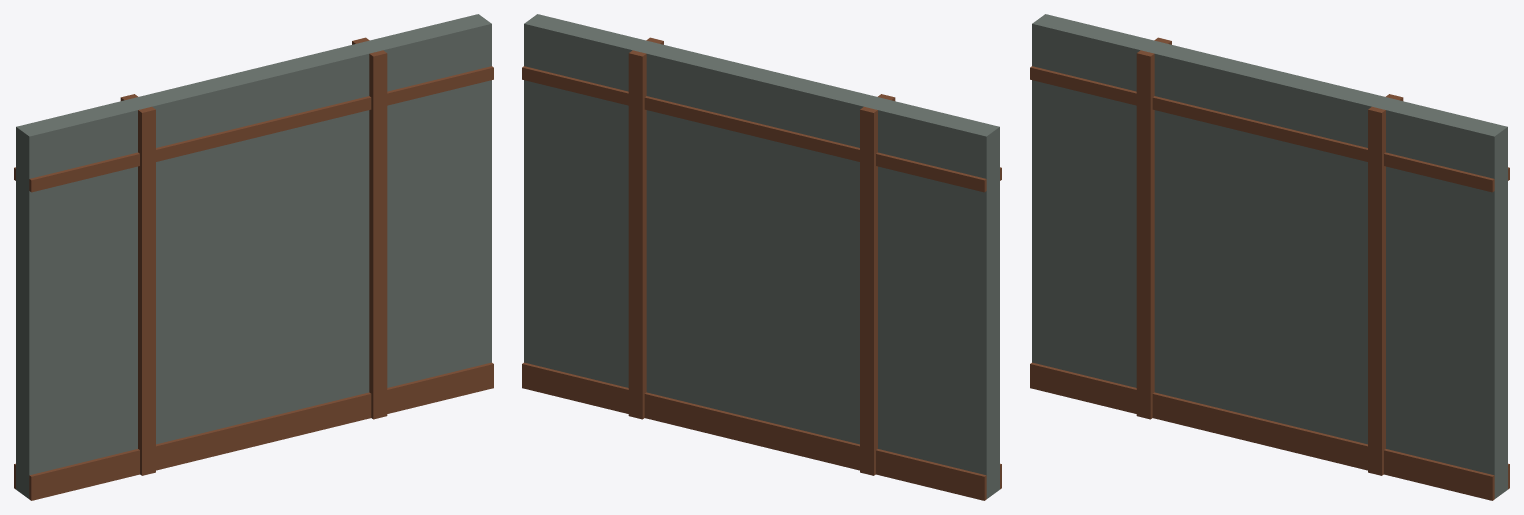
File: SM_Wall.fbx
3 views of the same model, side by side, from view 1: azimuth 30°, elevation 25°; view 2: azimuth 150°, elevation 25°; view 3: azimuth 330°, elevation 25° (orthographic).
Visible parts, largest first — view 1: SM_Wall; view 2: SM_Wall; view 3: SM_Wall.
Boxes of the visible parts, x1,y1,x2,y2 form: SM_Wall: [14, 14, 493, 500]; SM_Wall: [522, 14, 1001, 500]; SM_Wall: [1030, 14, 1509, 500].
Size of what is drawn, in the model's own units: 4 by 3 by 0.32.
